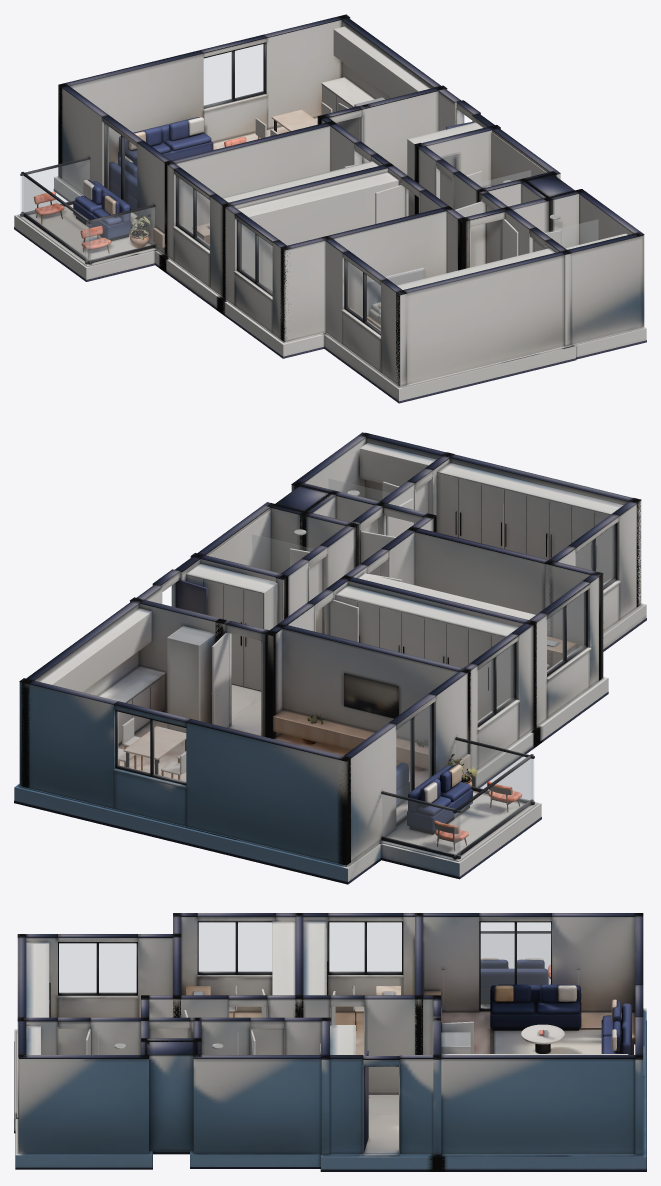
3 renders of one model, top to bottom at view 1: azimuth 30°, elevation 25°; view 2: azimuth 150°, elevation 25°; view 3: azimuth 270°, elevation 25°, orthographic. The views are drawn at different scales.
Parts seen in each view (by area): view 1: plan, glass0_m, railg2_m, railg1_m, railg0_m, glass1_m, glass4_m, glass3_m, glass2_m, sg.001_m; view 2: plan, glass0_m, railg0_m, railg2_m, railg1_m, glass1_m, glass3_m, glass2_m, sg_m, glass4_m; view 3: plan, glass1_m, glass4_m, glass3_m, glass2_m, railg2_m.
Boxes of the visible parts, bbox=[...] form: plan: bbox=[14, 14, 646, 403]; glass0_m: bbox=[204, 44, 263, 106]; railg2_m: bbox=[22, 176, 90, 261]; railg1_m: bbox=[86, 207, 154, 260]; railg0_m: bbox=[21, 160, 89, 213]; glass1_m: bbox=[106, 125, 136, 226]; glass4_m: bbox=[346, 260, 380, 332]; glass3_m: bbox=[239, 222, 272, 292]; glass2_m: bbox=[178, 177, 209, 247]; sg.001_m: bbox=[544, 219, 598, 247]; plan: bbox=[14, 432, 646, 884]; glass0_m: bbox=[117, 712, 185, 782]; railg0_m: bbox=[382, 794, 460, 855]; railg2_m: bbox=[454, 759, 532, 855]; railg1_m: bbox=[456, 740, 533, 801]; glass1_m: bbox=[396, 705, 431, 821]; glass3_m: bbox=[547, 592, 585, 673]; glass2_m: bbox=[478, 644, 513, 723]; sg_m: bbox=[252, 534, 313, 573]; glass4_m: bbox=[576, 525, 614, 585]; plan: bbox=[14, 913, 646, 1171]; glass1_m: bbox=[481, 922, 550, 1008]; glass4_m: bbox=[59, 943, 136, 993]; glass3_m: bbox=[199, 922, 271, 972]; glass2_m: bbox=[329, 922, 401, 972]; railg2_m: bbox=[481, 934, 550, 968].
Bounding box in the file's own units: 9.33 × 2.62 × 13.55.
2 materials, 1 textured.
